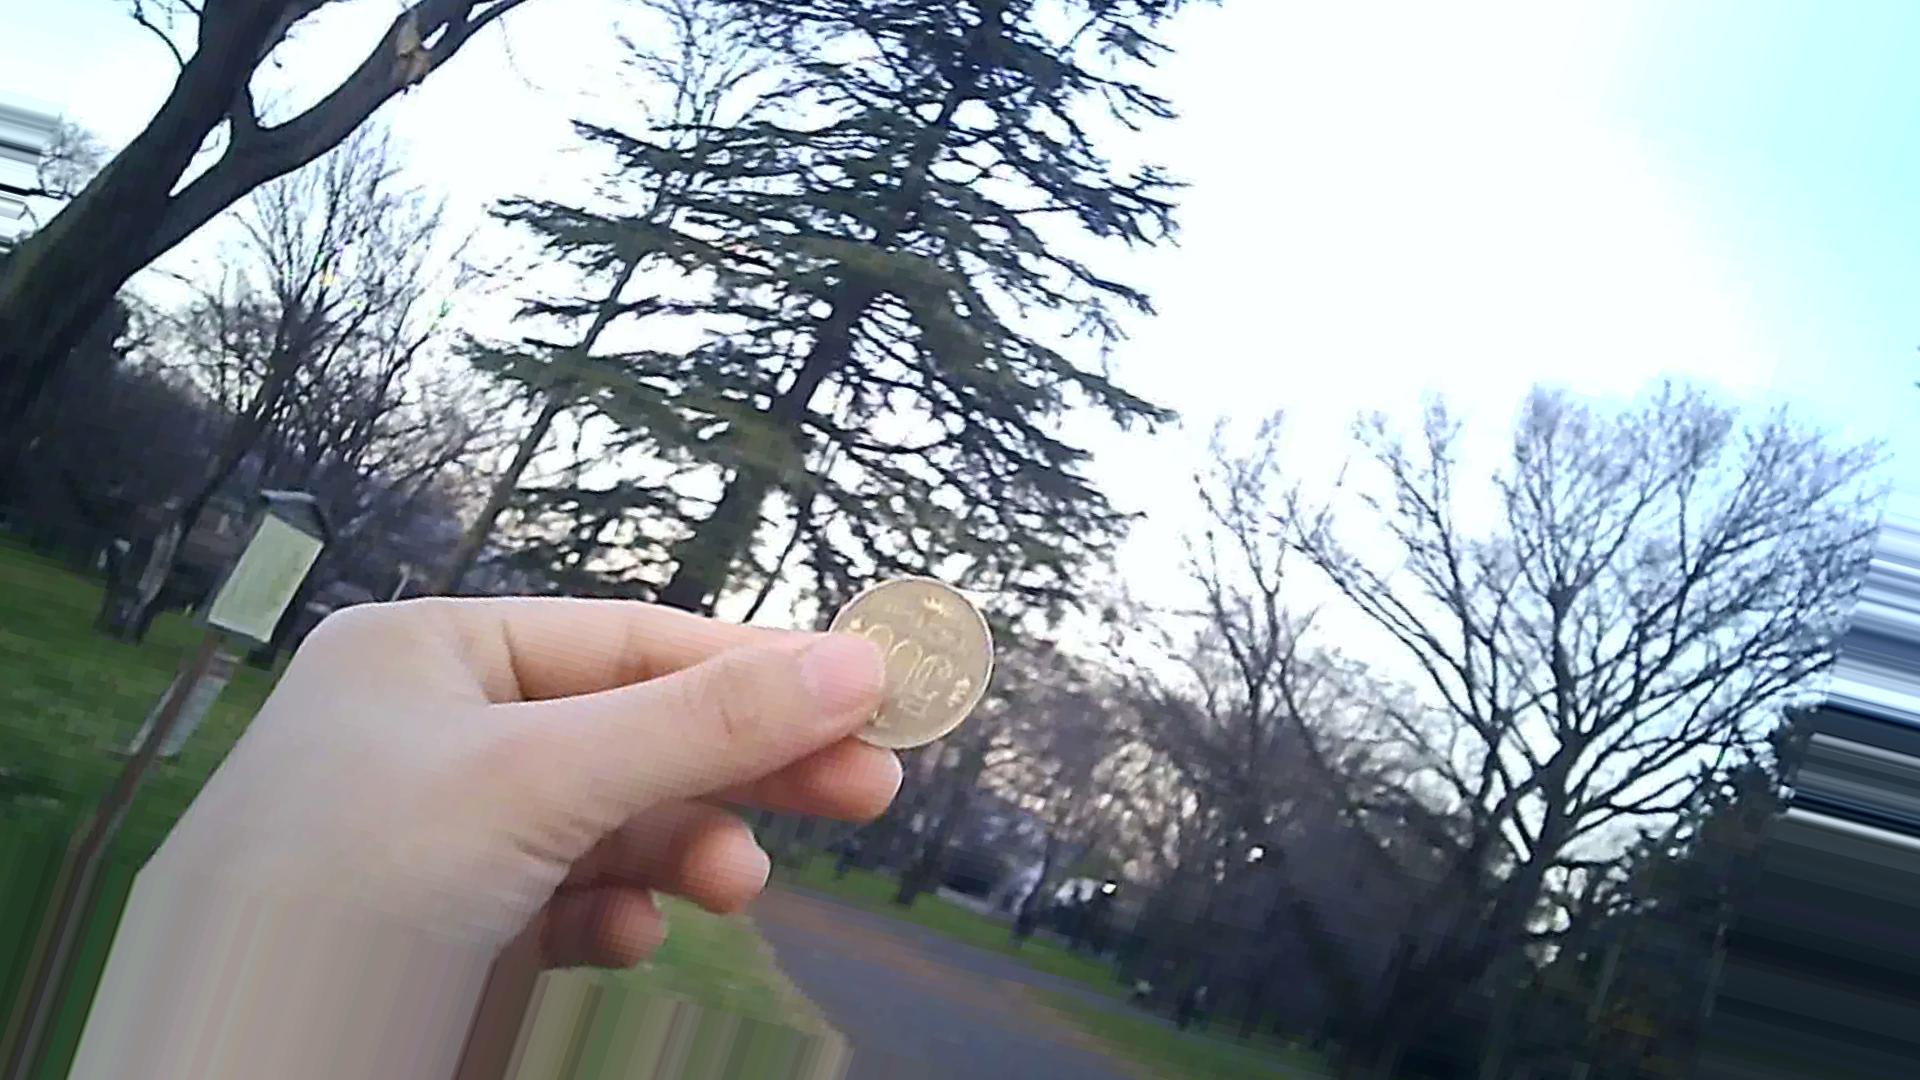500 Yen: (811, 578, 1017, 762)
